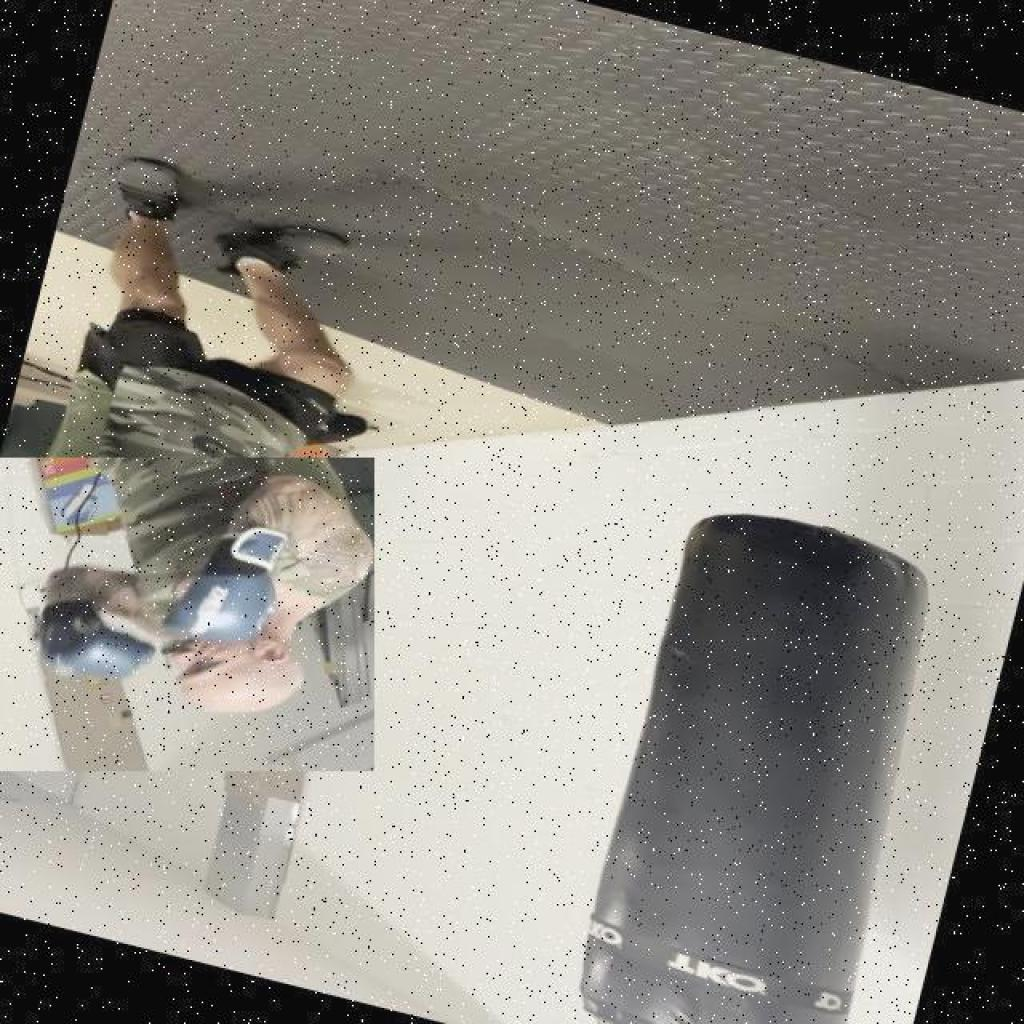bag: (555, 494, 952, 1024)
no punch: (0, 457, 374, 770)
